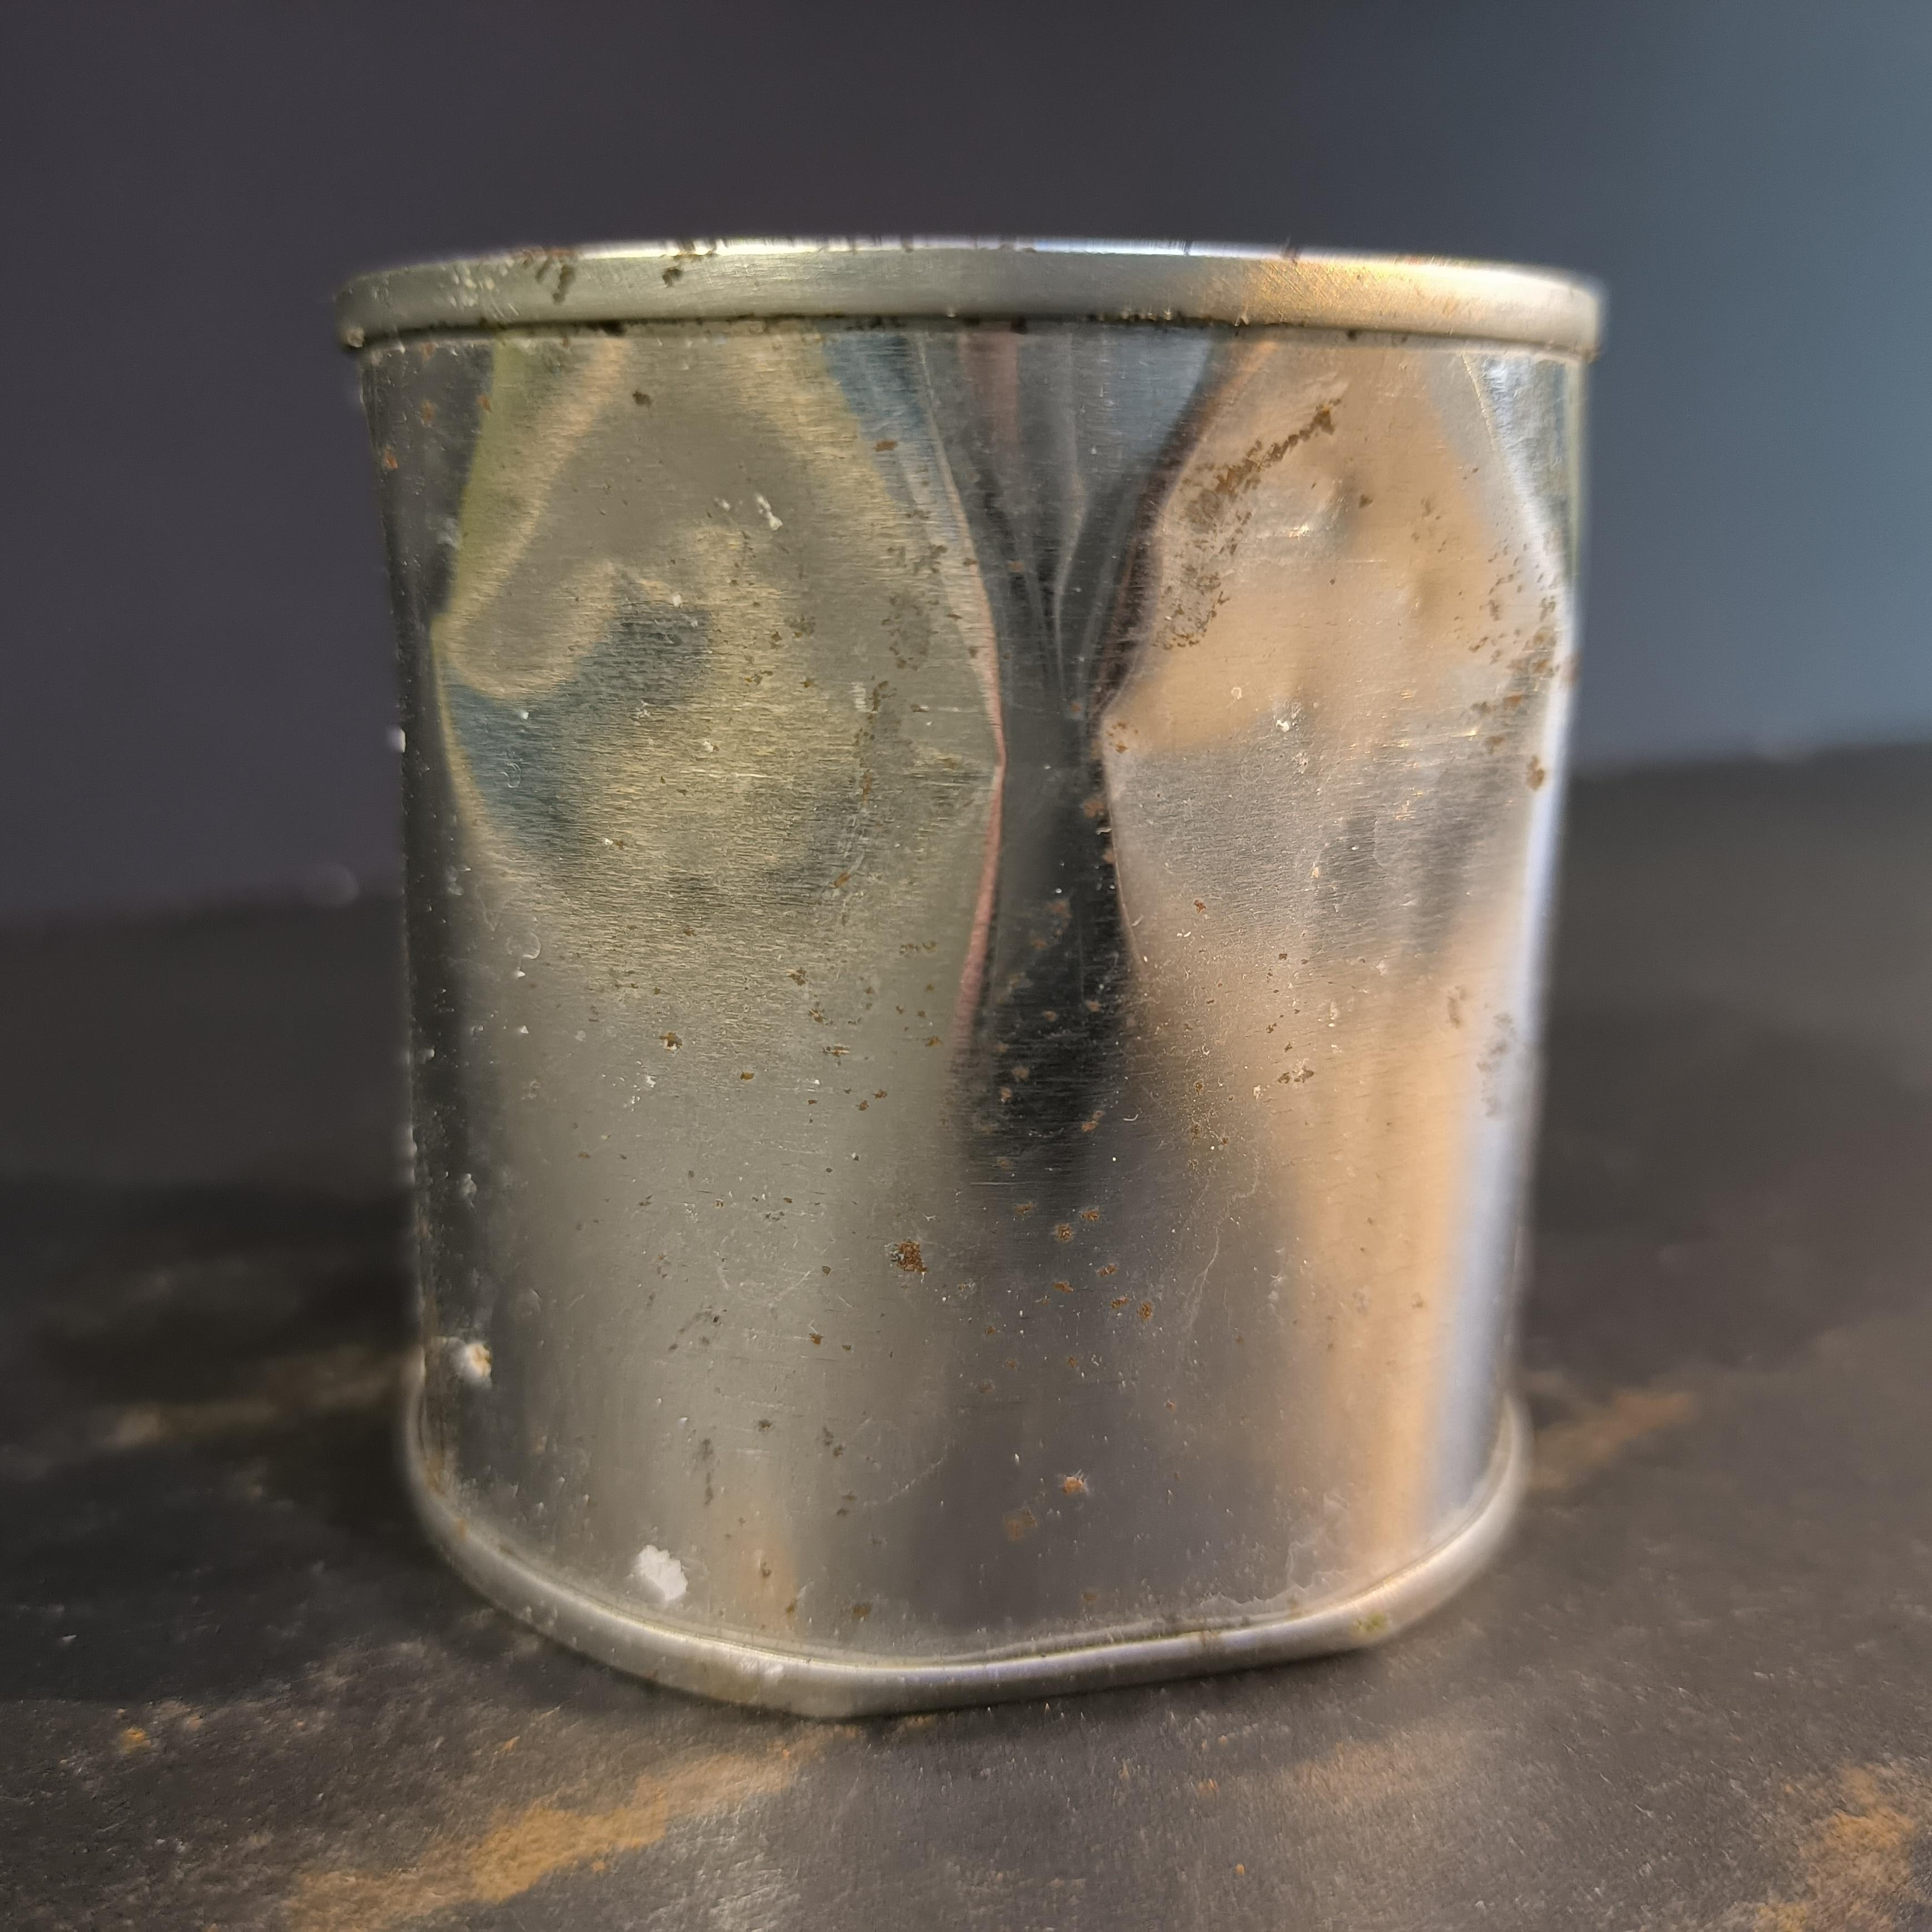Dented: (315, 209, 1637, 1725)
